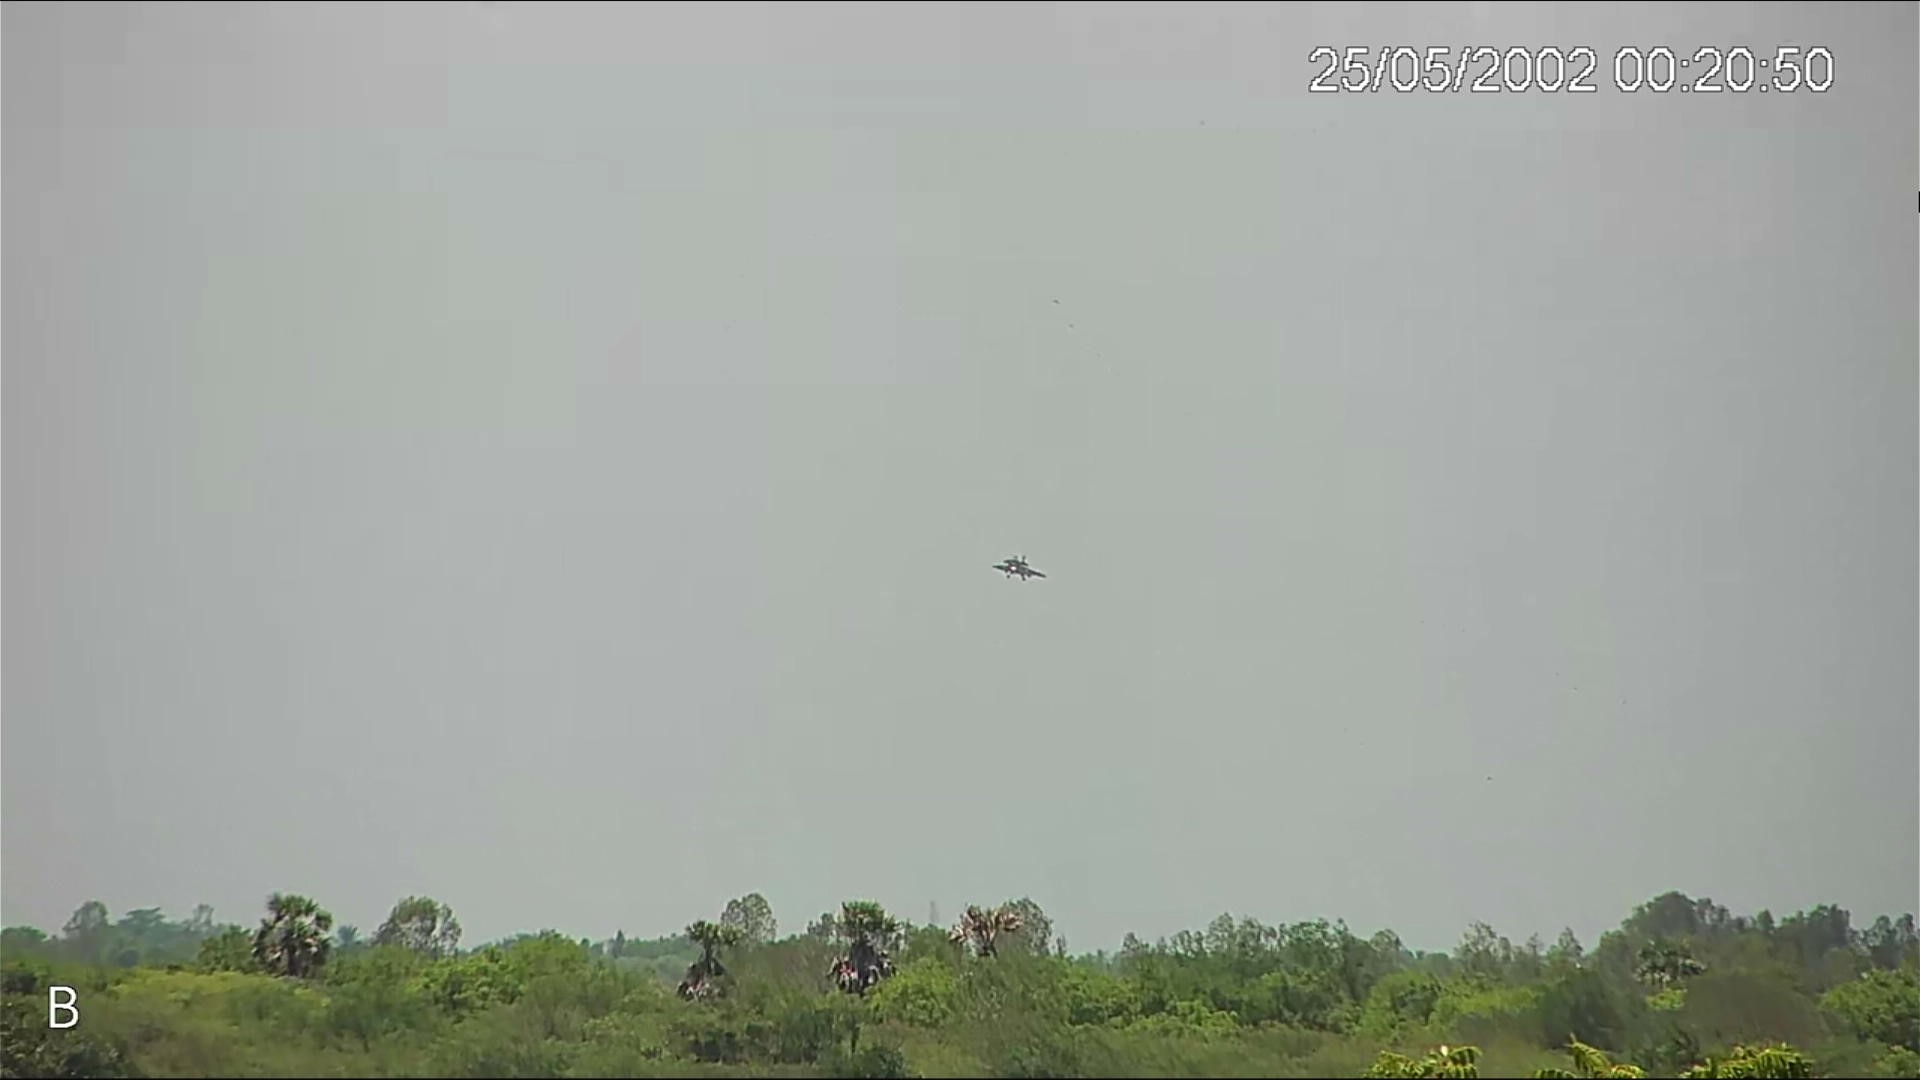SU_30: (988, 553, 1048, 585)
